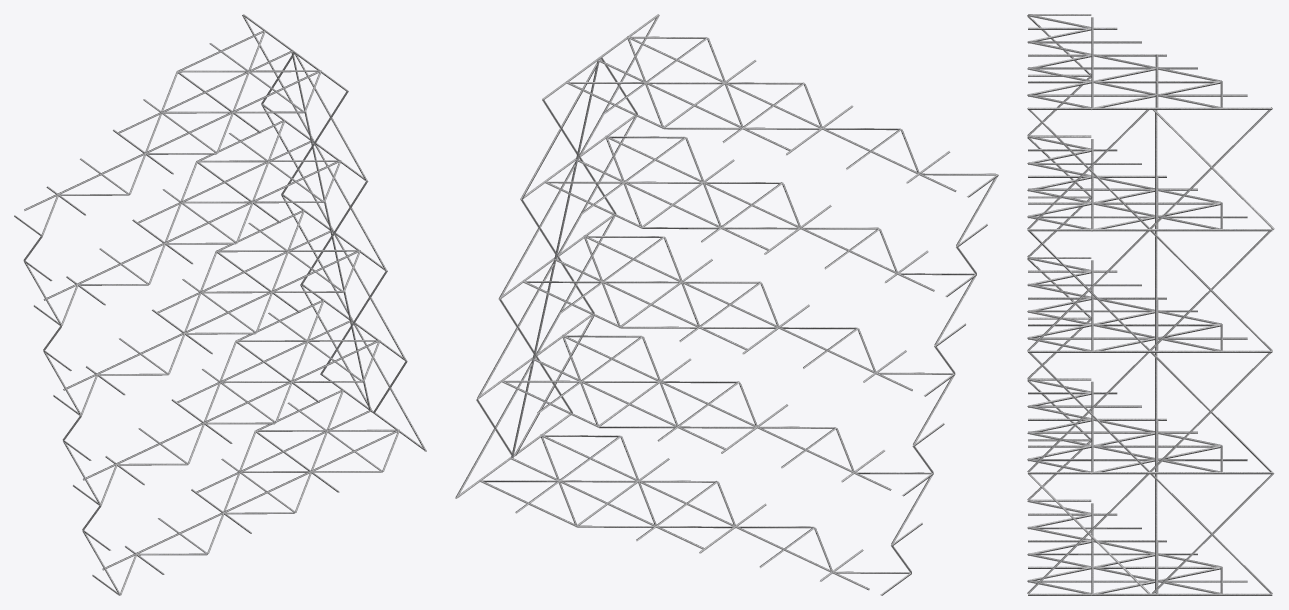
File: _0TRIBUENE_02_013_SUB2.obj
The picture shows the model from 3 angles, left to right: view 1: azimuth 30°, elevation 25°; view 2: azimuth 150°, elevation 25°; view 3: azimuth 270°, elevation 25°; orthographic projection. The views are drawn at different scales.
Visible parts, largest first — view 1: _0TRIBUENE_02_013_SUB2_Scene.157; view 2: _0TRIBUENE_02_013_SUB2_Scene.157; view 3: _0TRIBUENE_02_013_SUB2_Scene.157.
Boxes of the visible parts, left/top/right/bottom form: _0TRIBUENE_02_013_SUB2_Scene.157: left=14, top=14, right=426, bottom=595; _0TRIBUENE_02_013_SUB2_Scene.157: left=455, top=14, right=998, bottom=595; _0TRIBUENE_02_013_SUB2_Scene.157: left=1027, top=14, right=1274, bottom=595.
Size of the model in its own units: 3343 by 3718 by 1591.
